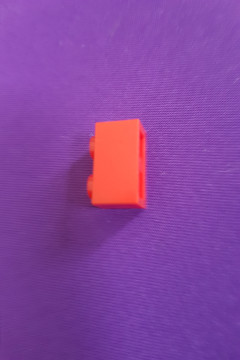1x2 red: (89, 120, 149, 210)
